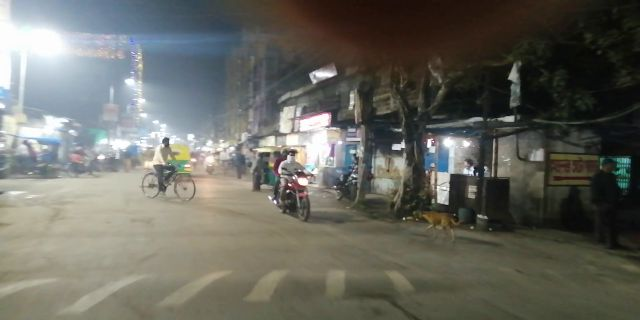Cycle: (137, 134, 199, 200)
Motorbike: (266, 147, 323, 223)
